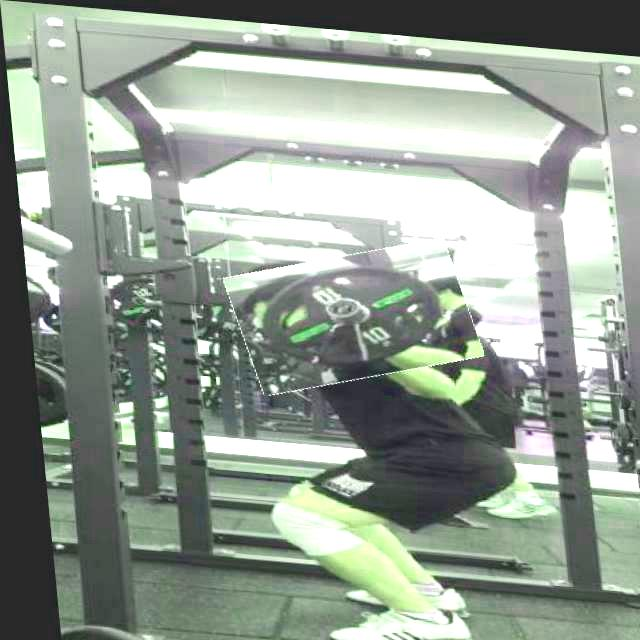barbell: (221, 228, 477, 392)
